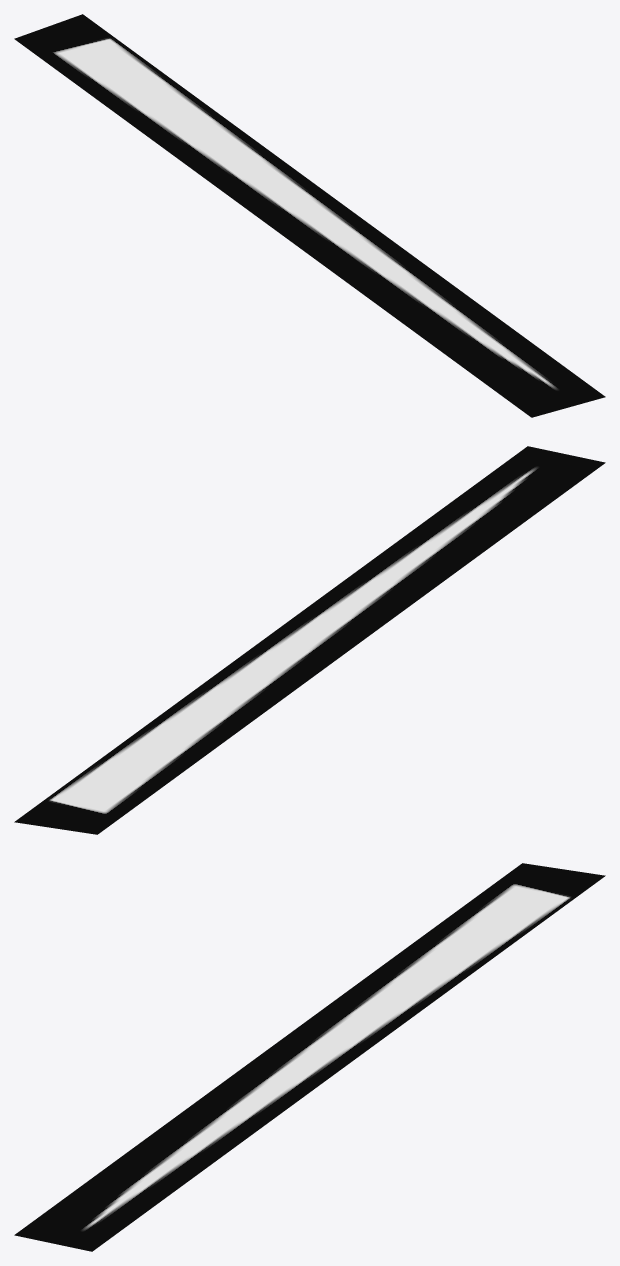
Rendered from SM_line_Straight_4.fbx.
The picture shows the model from 3 angles, top to bottom: view 1: azimuth 30°, elevation 25°; view 2: azimuth 150°, elevation 25°; view 3: azimuth 330°, elevation 25°; orthographic projection.
Parts seen in each view (by area): view 1: SM_line_Straight_4; view 2: SM_line_Straight_4; view 3: SM_line_Straight_4.
Part boxes in pixels (bbox=[...]): SM_line_Straight_4: bbox=[14, 14, 605, 417]; SM_line_Straight_4: bbox=[14, 446, 605, 834]; SM_line_Straight_4: bbox=[14, 863, 605, 1251].
Bounding box in the file's own units: 5.92 × 0 × 70.06.
